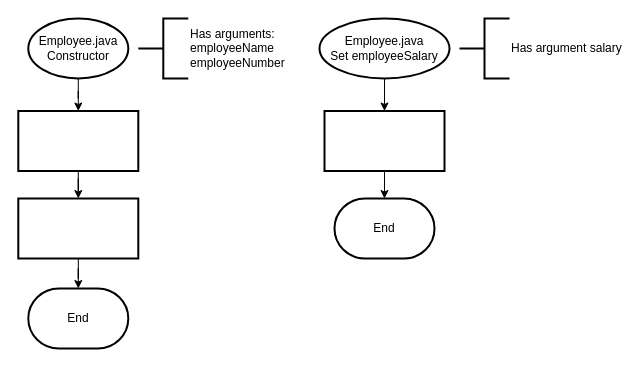
Image size: 640x366. Some labels were removed from this diagram. The centre of each missing label's shape, as x and y in pixels:
Set instance employeeName: point 78,141
Set instance employeeNumber: point 78,228
Set instance Salary: point 384,141
